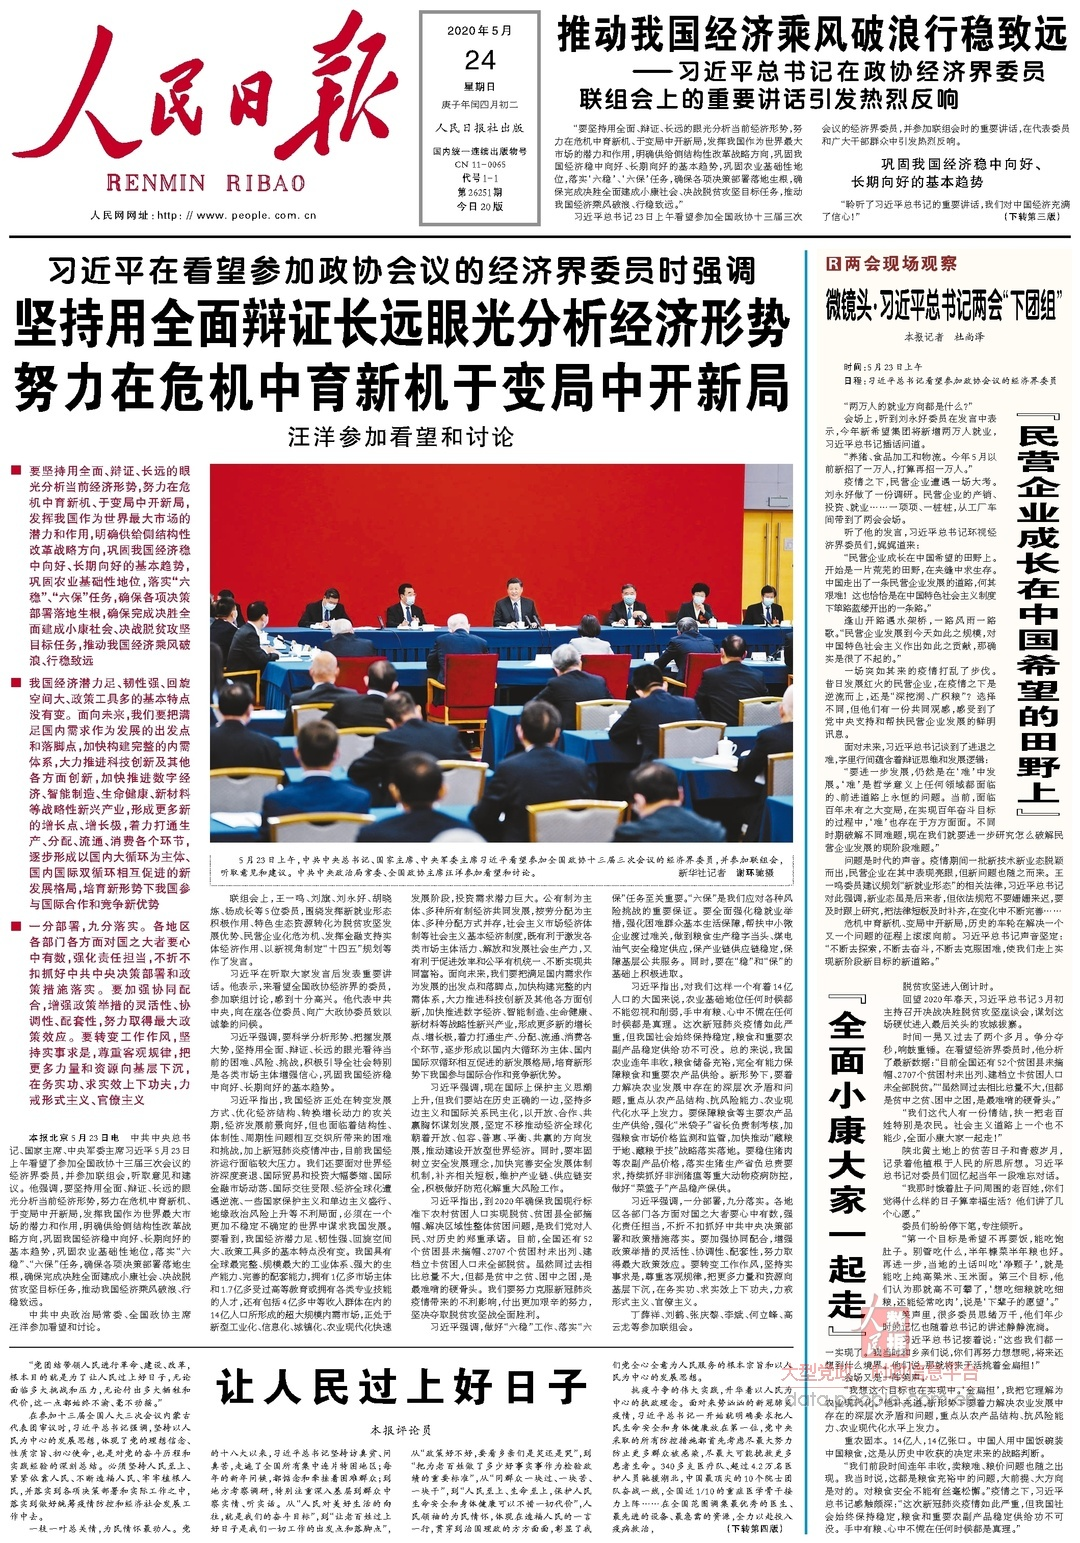pic: (205, 458, 797, 849)
